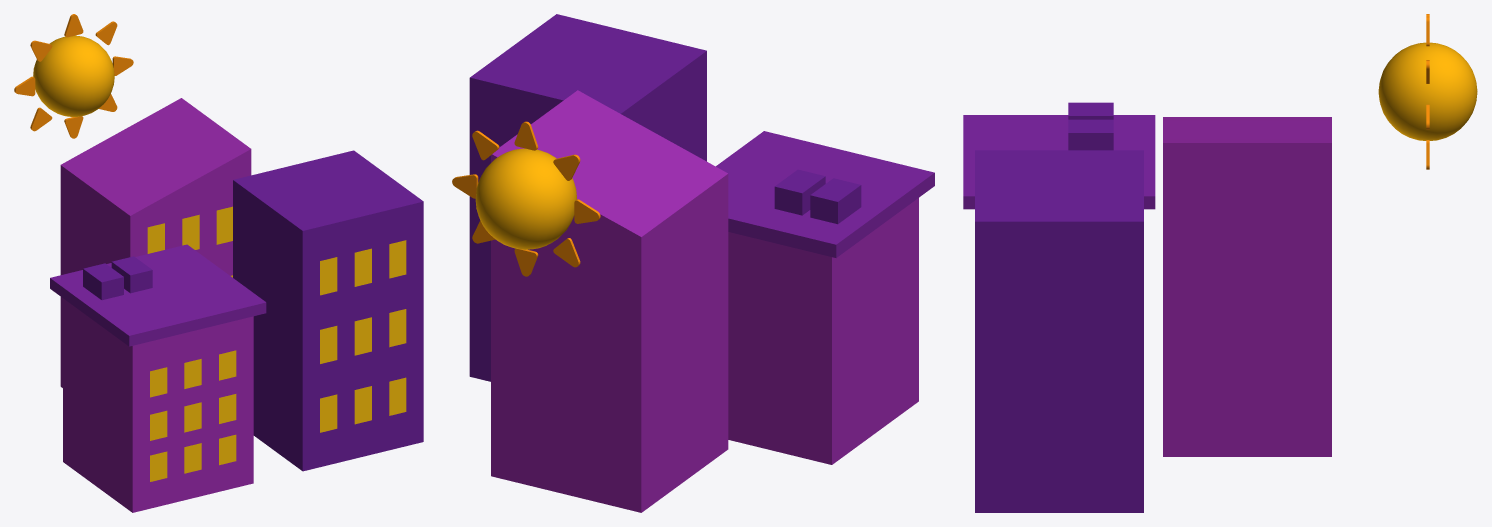
File: sunset.fbx
3 renders of one model, left to right at view 1: azimuth 30°, elevation 25°; view 2: azimuth 150°, elevation 25°; view 3: azimuth 270°, elevation 25°, orthographic. The views are drawn at different scales.
Parts seen in each view (by area): view 1: Cube.538; view 2: Cube.538; view 3: Cube.538.
Part boxes in pixels (<box>): Cube.538: <box>14,14,423,512</box>; Cube.538: <box>452,14,934,512</box>; Cube.538: <box>963,14,1477,512</box>.
Size of the model in its own units: 198 by 210 by 243.
1 material, 1 textured.
